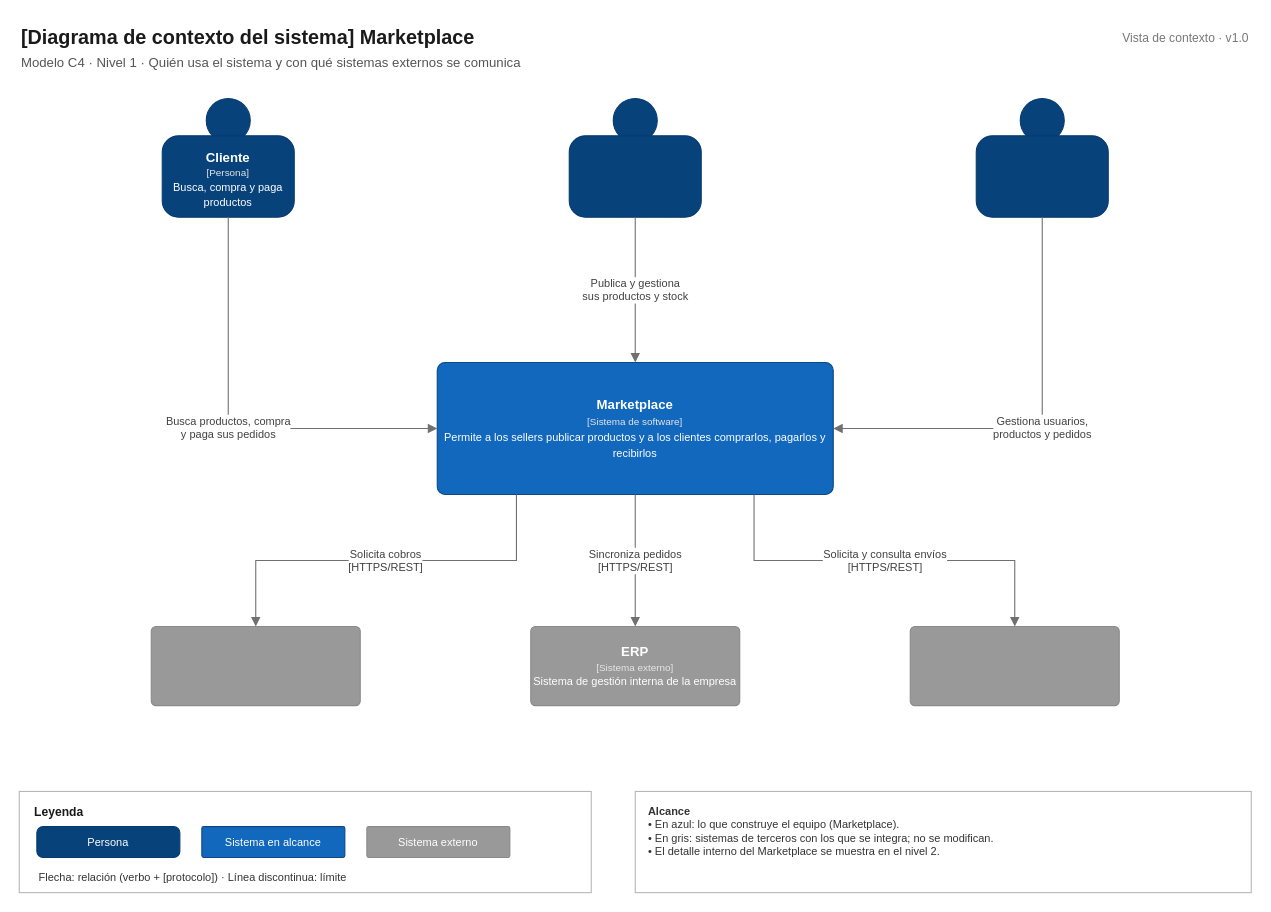
Some shapes in this 1271 by 912 pixel diagram are drawn without their labels. Each missing label, with the box of its shape:
Administrador [Persona] Supervisa la operación del marketplace: (975, 135, 1108, 217)
Pasarela de pago [Sistema externo] Procesa los pagos con tarjeta y otros medios: (150, 625, 360, 706)
Seller [Persona] Vende productos en el marketplace: (568, 135, 701, 217)
Servicio de envío [Sistema externo] Courier que gestiona las entregas: (909, 625, 1119, 706)
